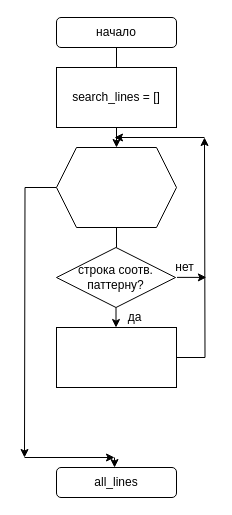
Some shapes in this 232 by 515 pixel diagram are drawn without their labels. Each missing label, with the box of its shape:
добавить строку в search_lines: (56, 326, 176, 388)
пока есть строки в файле homework1.txt: (56, 146, 176, 228)
